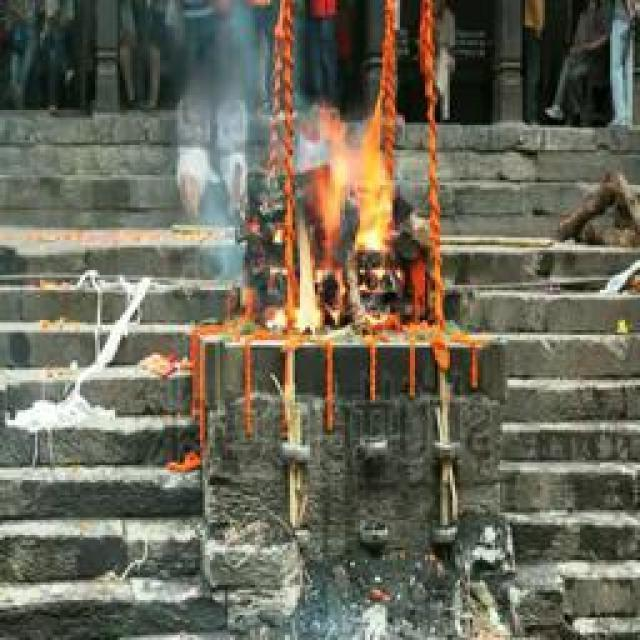Fire: (269, 100, 398, 333)
